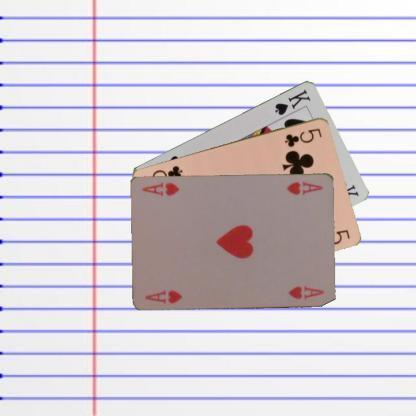5c: (282, 125, 323, 148)
Ah: (142, 287, 184, 305), (284, 178, 325, 196)
Ks: (272, 86, 312, 116)
